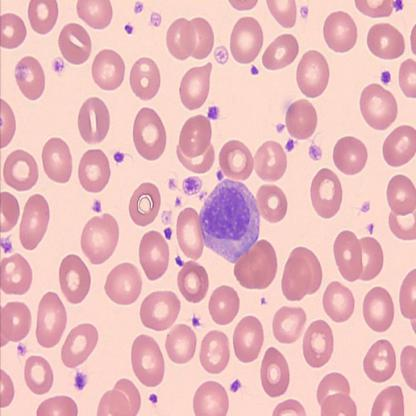Myelocyte: (200, 178, 263, 262)
